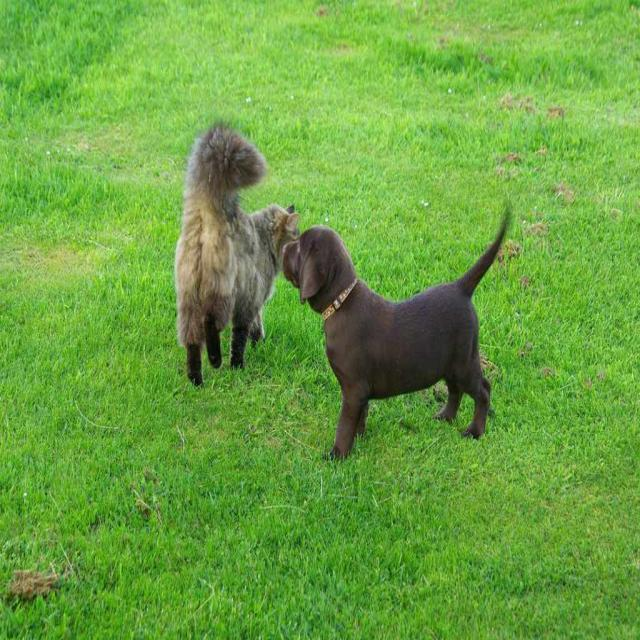Dog: (281, 201, 512, 462), (174, 113, 299, 387)
